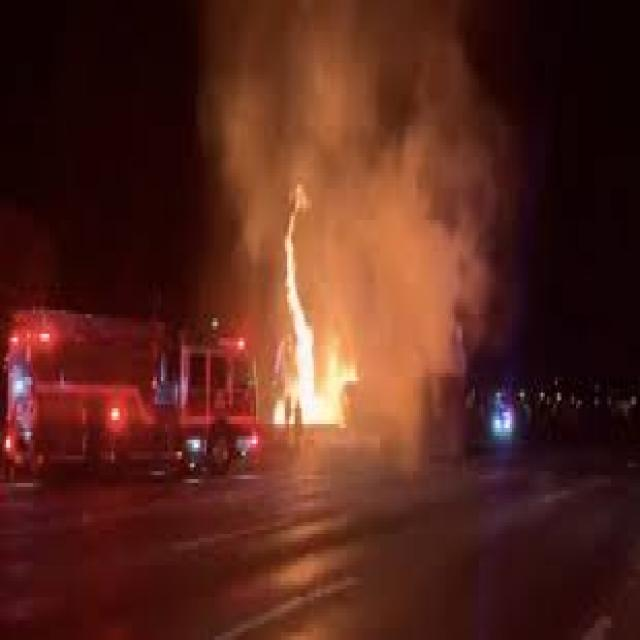smoke: (200, 4, 502, 471), (277, 188, 361, 440)
